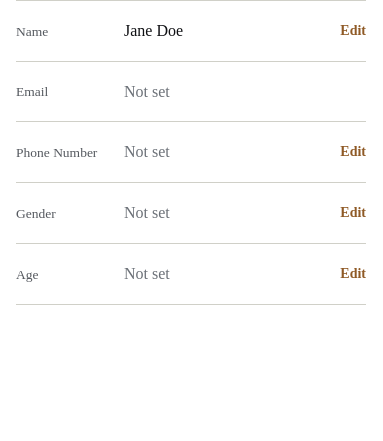
Scenario: ProfileScreen › editing the name › keeps the field open with what was typed, and says so, when saving fails
Click the button with test id "profile-edit-name". click: (353, 31)
box: [340,9,366,53]
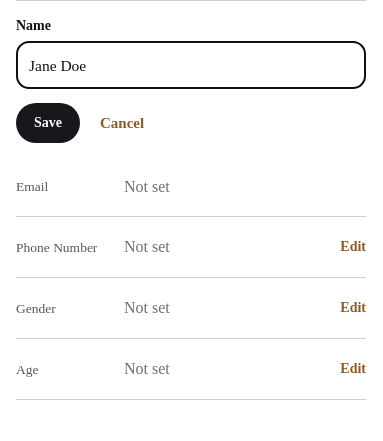
Replace the text in the field with test id "profile-name-input" with "New Name". click: (191, 65)
box: [16,41,366,89]
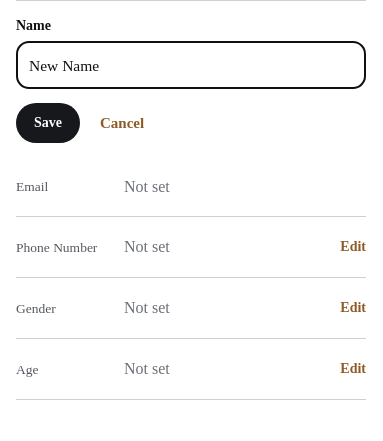
Click the button with test id "profile-save". click: (48, 123)
box: [16,103,80,143]
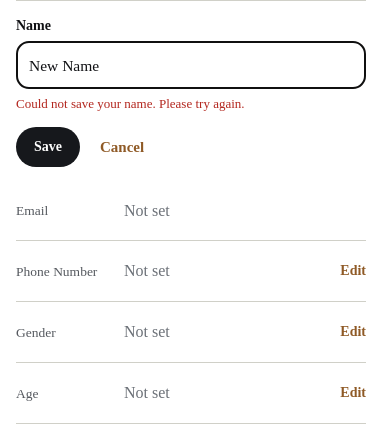
Result: the text "Could not save your name. Please try again." is shown at [16,96,244,111]
